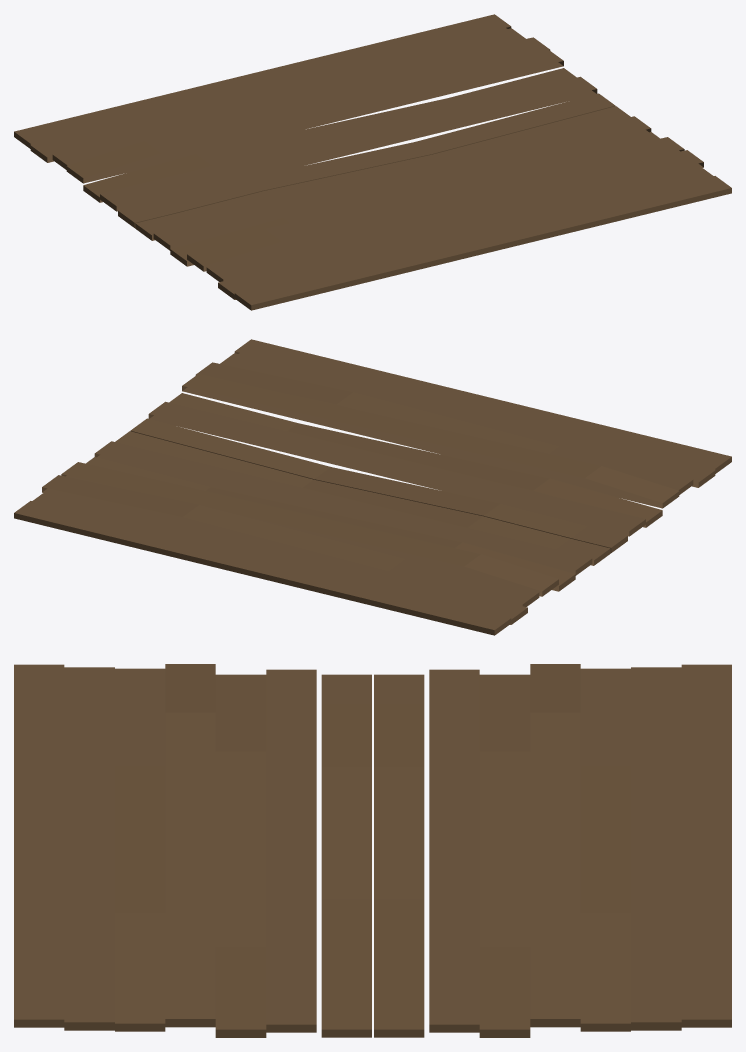
Rendered from SM_plank_board_01.fbx.
3 views of the same model, one above another, from view 1: azimuth 30°, elevation 25°; view 2: azimuth 150°, elevation 25°; view 3: azimuth 270°, elevation 25° (orthographic). The views are drawn at different scales.
Parts seen in each view (by area): view 1: plank_board_01; view 2: plank_board_01; view 3: plank_board_01.
Boxes of the visible parts, x1,y1,x2,y2 form: plank_board_01: (14, 14, 731, 310); plank_board_01: (14, 339, 731, 635); plank_board_01: (14, 664, 731, 1037).
Bounding box in the file's own units: 480 × 20.76 × 406.
